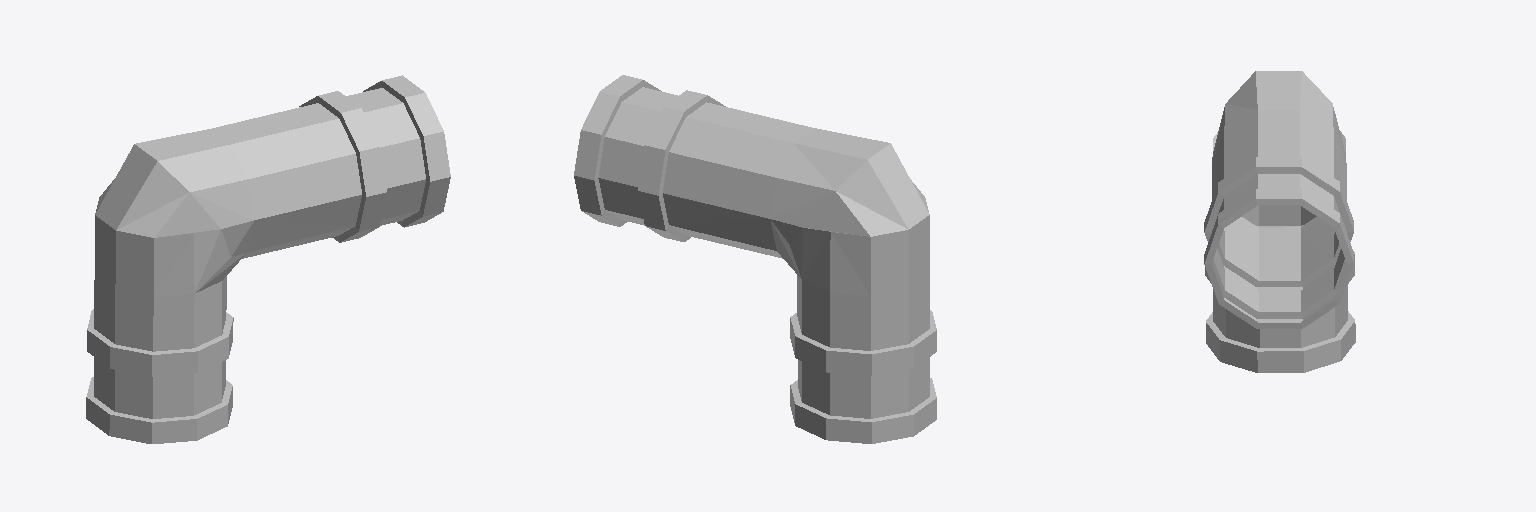
File: PipeL.obj
The picture shows the model from 3 angles: view 1: azimuth 30°, elevation 25°; view 2: azimuth 150°, elevation 25°; view 3: azimuth 270°, elevation 25°; orthographic projection.
Parts seen in each view (by area): view 1: Pipe_L_Pipe_L; view 2: Pipe_L_Pipe_L; view 3: Pipe_L_Pipe_L.
Boxes of the visible parts, x1=… form: Pipe_L_Pipe_L: x1=86, y1=75, x2=450, y2=443; Pipe_L_Pipe_L: x1=574, y1=75, x2=936, y2=443; Pipe_L_Pipe_L: x1=1204, y1=71, x2=1355, y2=372.
Bounding box in the file's own units: 1.11 × 0.9048 × 0.461.